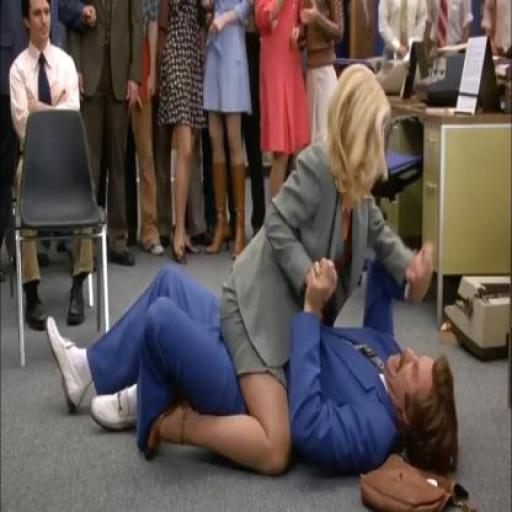Fighting: (50, 60, 467, 512)
